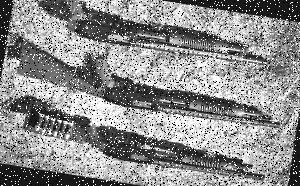shotgun: (12, 36, 294, 133), (15, 93, 273, 186), (53, 0, 275, 69)
